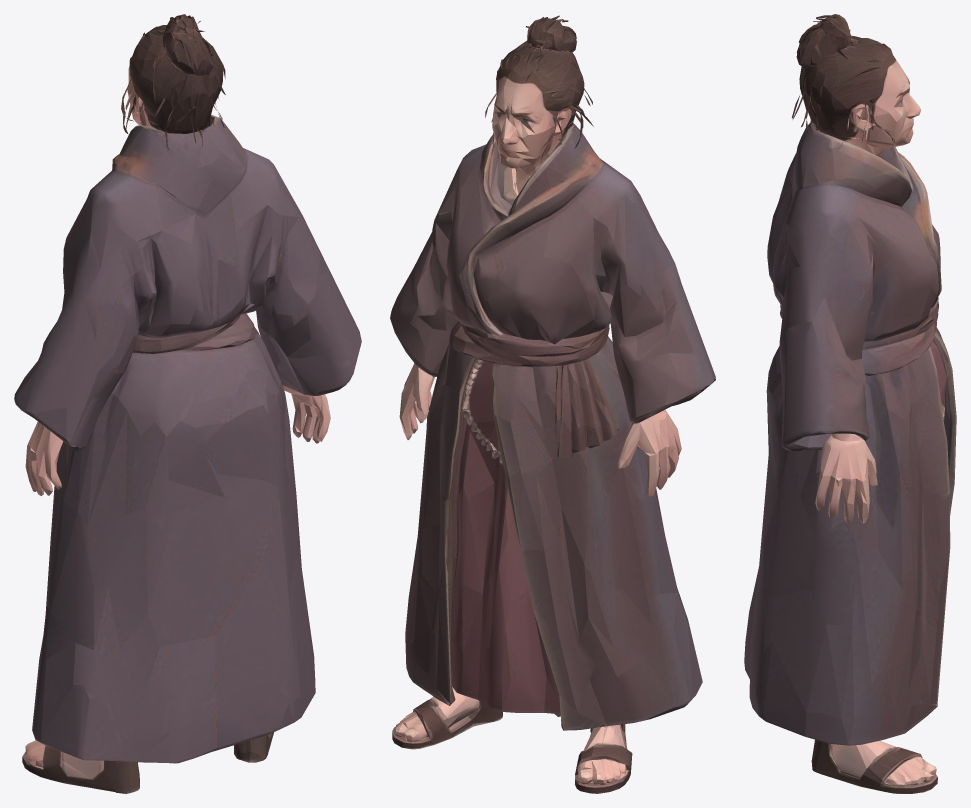
Rendered from elder.glb.
3 views of the same model, side by side, from view 1: azimuth 30°, elevation 25°; view 2: azimuth 150°, elevation 25°; view 3: azimuth 270°, elevation 25° (orthographic). The views are drawn at different scales.
Visible parts, largest first — view 1: model; view 2: model; view 3: model.
Boxes of the visible parts, bbox=[...] form: model: bbox=[14, 14, 361, 793]; model: bbox=[390, 15, 715, 793]; model: bbox=[744, 14, 956, 793].
Bounding box in the file's own units: 0.9313 × 2 × 0.5342.
Materials: 1 (1 with a texture image).
